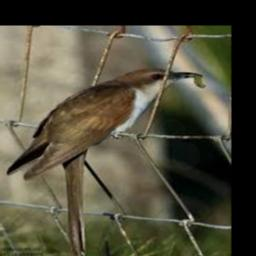Cuckoo: (7, 67, 203, 254)
